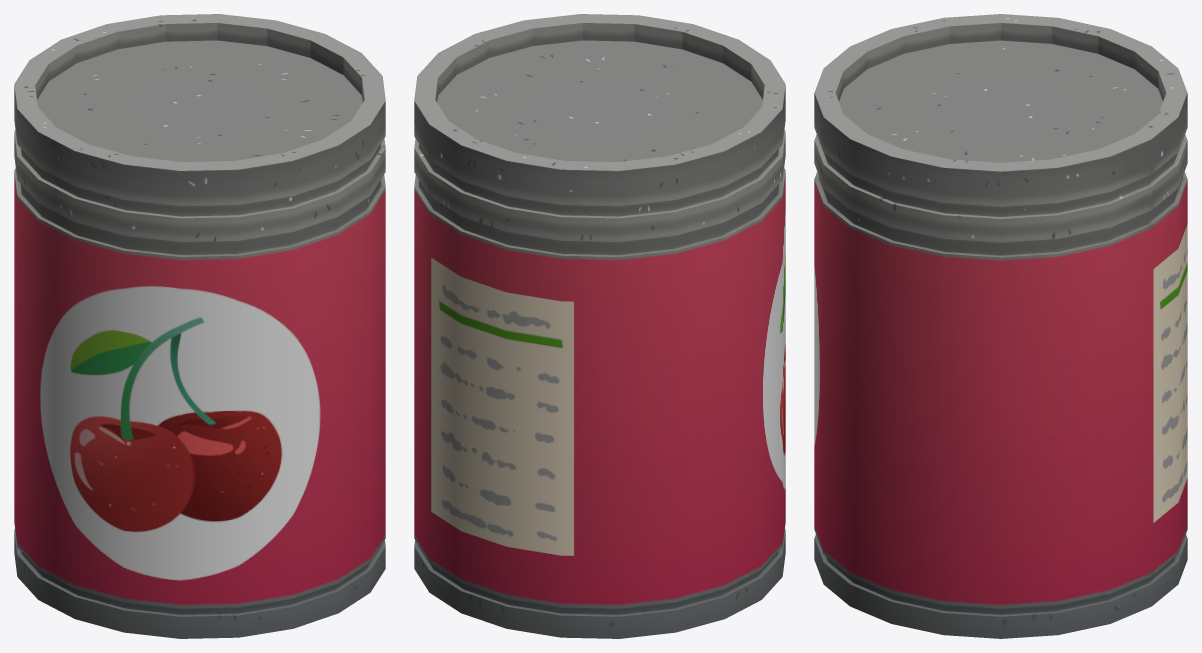
The model's file is Canned_fruit_cherry.fbx.
3 views of the same model, side by side, from view 1: azimuth 30°, elevation 25°; view 2: azimuth 150°, elevation 25°; view 3: azimuth 270°, elevation 25° (orthographic).
Parts seen in each view (by area): view 1: Canned_fruit; view 2: Canned_fruit; view 3: Canned_fruit.
Boxes of the visible parts, x1,y1,x2,y2 form: Canned_fruit: [14, 14, 385, 638]; Canned_fruit: [414, 14, 785, 638]; Canned_fruit: [814, 14, 1187, 638].
Size of the model in its own units: 16.31 by 22.55 by 16.31.
Materials: 1 (1 with a texture image).
